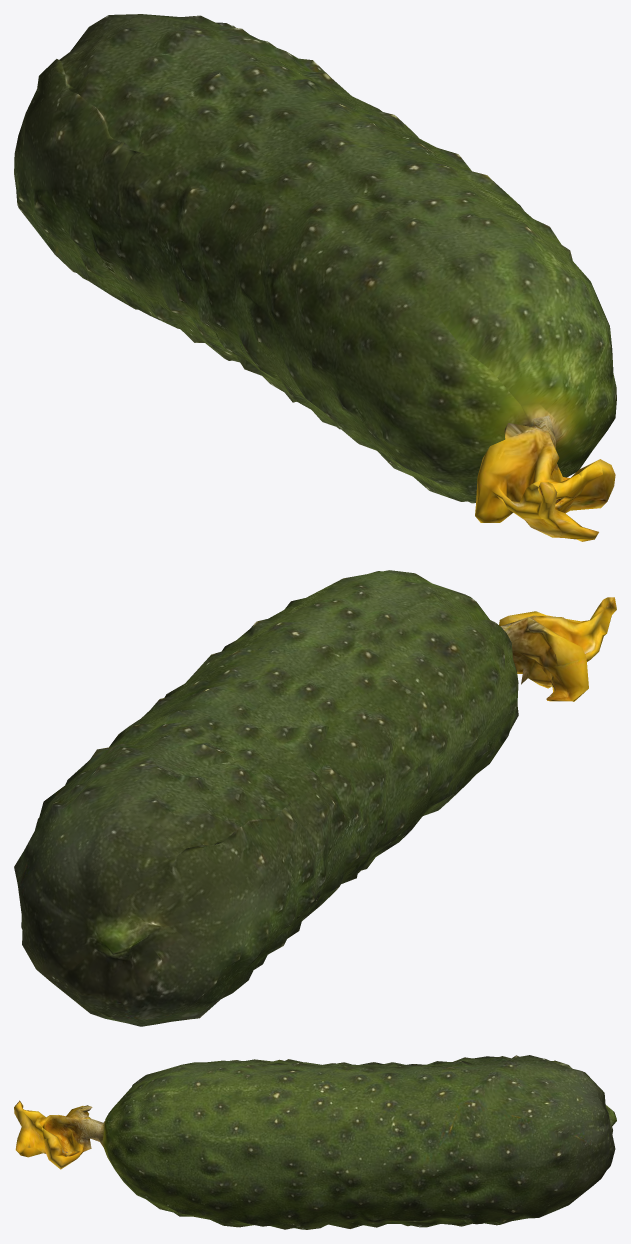
Rendered from cucumber_a01.glb.
The picture shows the model from 3 angles, top to bottom: view 1: azimuth 30°, elevation 25°; view 2: azimuth 150°, elevation 25°; view 3: azimuth 270°, elevation 25°; orthographic projection. The views are drawn at different scales.
Visible parts, largest first — view 1: sm_food_produce_cucumber_a01_01_mesh_00; view 2: sm_food_produce_cucumber_a01_01_mesh_00; view 3: sm_food_produce_cucumber_a01_01_mesh_00.
Part boxes in pixels (<box>): sm_food_produce_cucumber_a01_01_mesh_00: <box>14,14,616,541</box>; sm_food_produce_cucumber_a01_01_mesh_00: <box>14,570,616,1026</box>; sm_food_produce_cucumber_a01_01_mesh_00: <box>14,1055,616,1229</box>.
Size of the model in its own units: 0.0522 by 0.0479 by 0.1699.
Materials: 1 (1 with a texture image).
